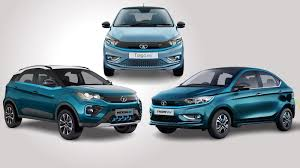Tiago: (149, 68, 297, 141), (9, 63, 146, 141), (100, 4, 185, 79)
